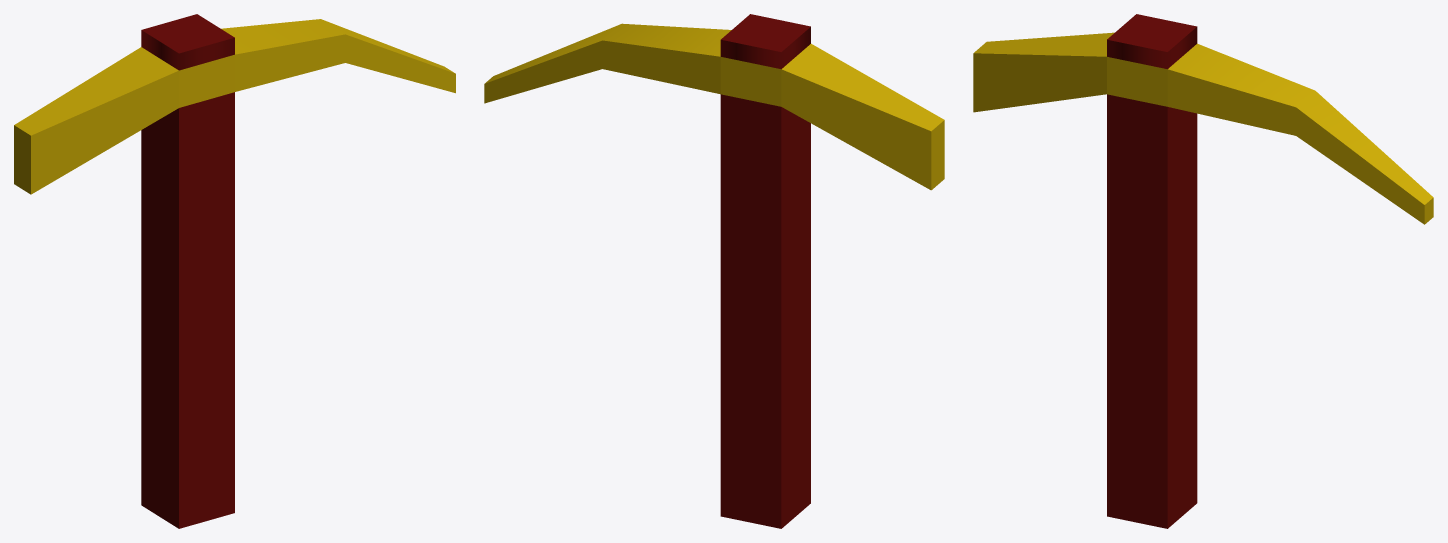
The model's file is gold_pickaxe.obj.
The picture shows the model from 3 angles, left to right: view 1: azimuth 30°, elevation 25°; view 2: azimuth 150°, elevation 25°; view 3: azimuth 330°, elevation 25°; orthographic projection.
Parts seen in each view (by area): view 1: Cube.009; view 2: Cube.009; view 3: Cube.009.
Boxes of the visible parts, x1,y1,x2,y2 form: Cube.009: (14, 14, 455, 528); Cube.009: (484, 14, 944, 528); Cube.009: (973, 14, 1433, 528).
Size of the model in its own units: 1.11 by 1.15 by 0.1571.
